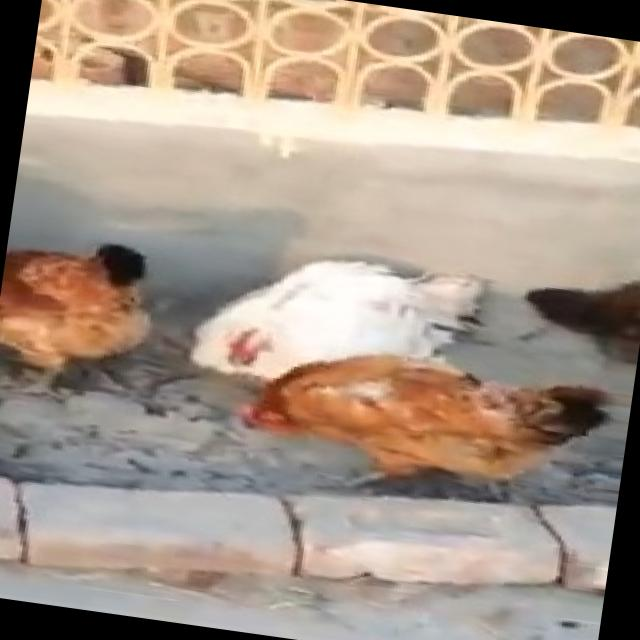stand bath: (226, 328, 622, 518), (183, 216, 492, 420)
